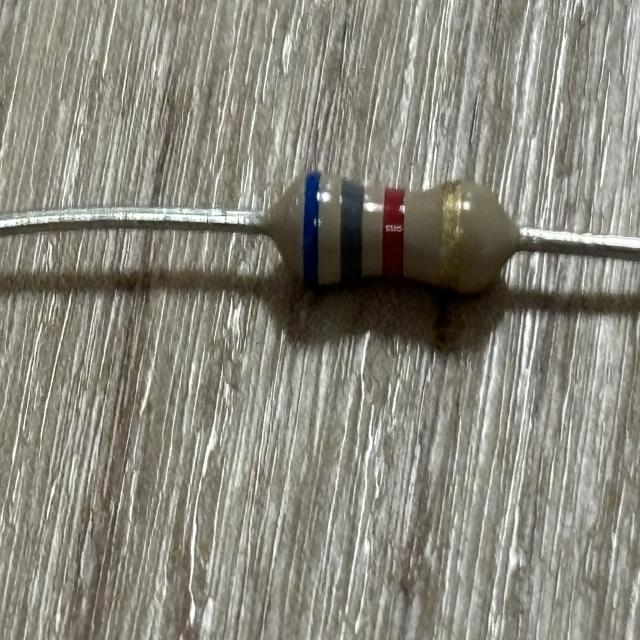resistor: (286, 166, 500, 300)
